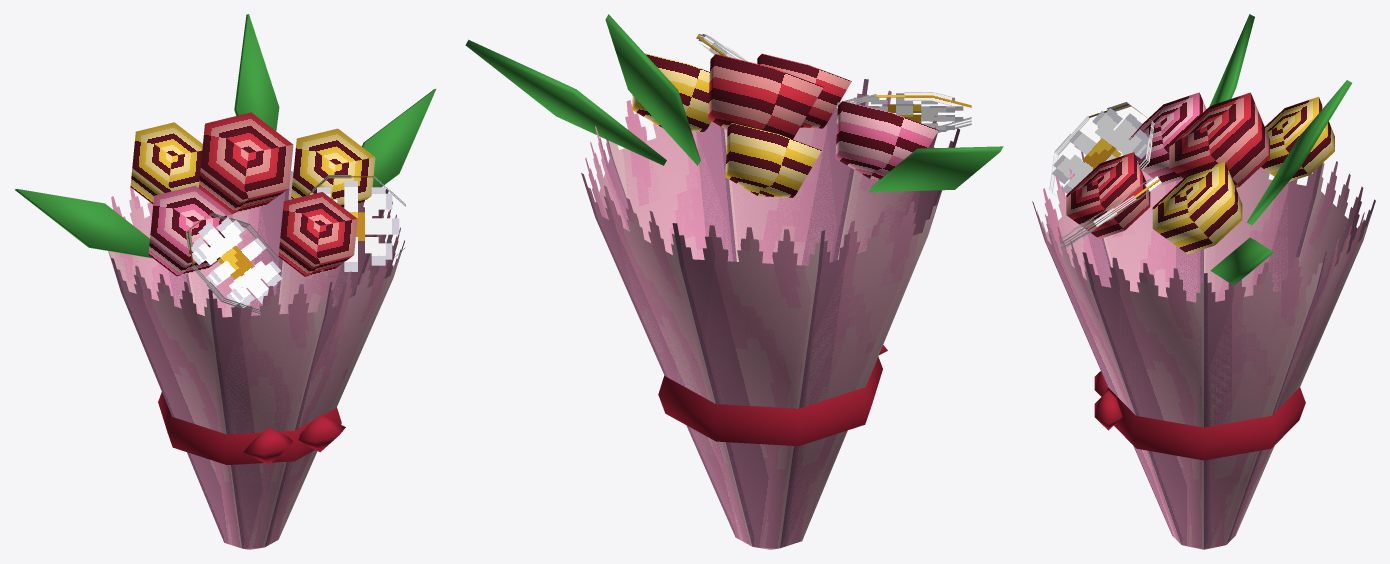
Rendered from personal-flowerBouquet.glb.
The picture shows the model from 3 angles, left to right: view 1: azimuth 30°, elevation 25°; view 2: azimuth 150°, elevation 25°; view 3: azimuth 270°, elevation 25°; orthographic projection. The views are drawn at different scales.
Visible parts, largest first — view 1: personal.flowerBouquet; view 2: personal.flowerBouquet; view 3: personal.flowerBouquet.
Part boxes in pixels (box(x1,y1,x2,y2)): personal.flowerBouquet: box(15, 14, 436, 549); personal.flowerBouquet: box(465, 14, 1003, 549); personal.flowerBouquet: box(1032, 14, 1375, 549).
Size of the model in its own units: 1.61 by 1.69 by 1.04.
7 materials, 7 textured.
